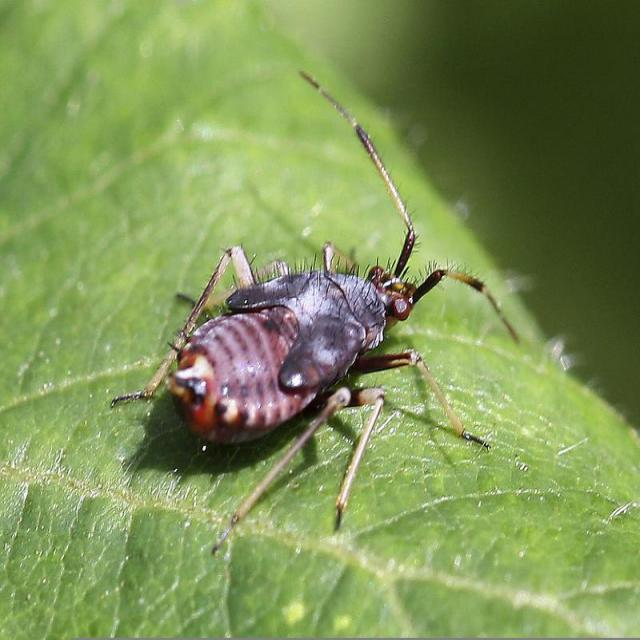Miridae-Adult-: (86, 60, 531, 533)
